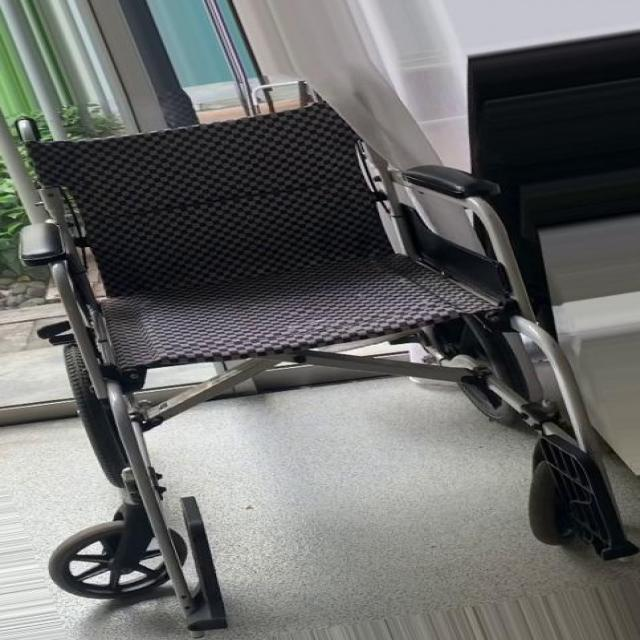wheelchair: (2, 77, 640, 639)
